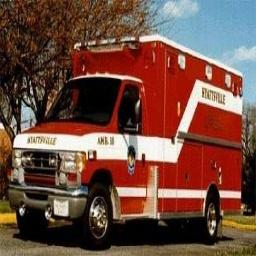ambulance: (9, 35, 241, 247)
